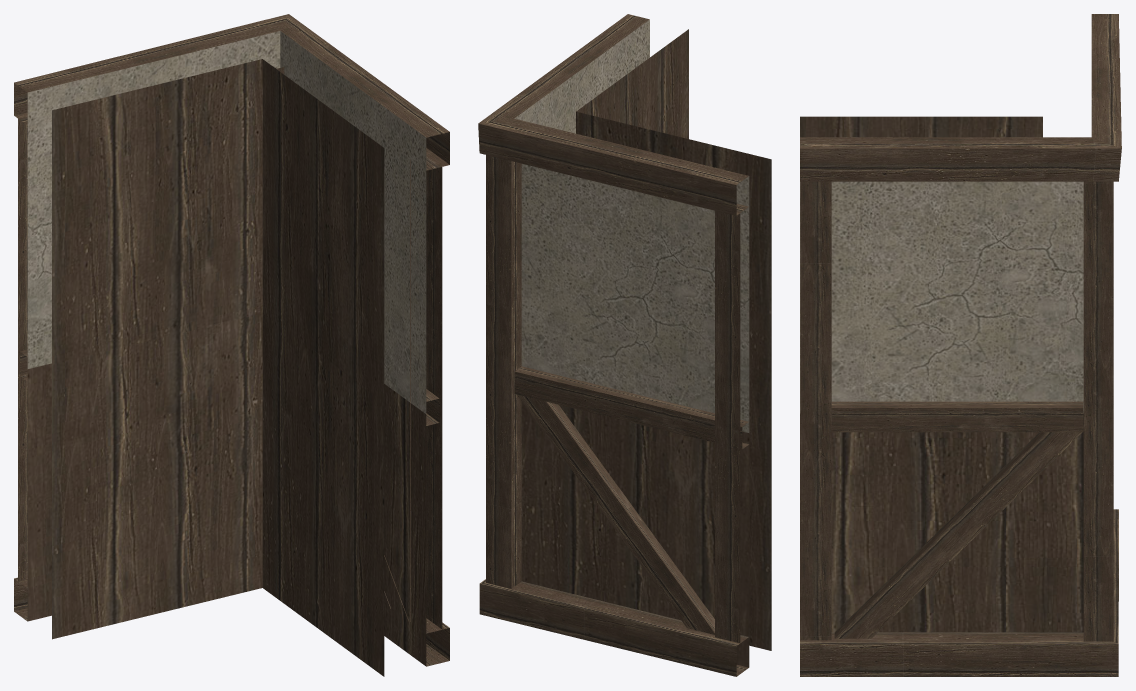
The model's file is ARC1010287.fbx.
The picture shows the model from 3 angles, left to right: view 1: azimuth 30°, elevation 25°; view 2: azimuth 150°, elevation 25°; view 3: azimuth 270°, elevation 25°; orthographic projection. The views are drawn at different scales.
Visible parts, largest first — view 1: smARC1010287; view 2: smARC1010287; view 3: smARC1010287.
Boxes of the visible parts, bbox=[...] form: smARC1010287: bbox=[14, 14, 449, 676]; smARC1010287: bbox=[478, 14, 771, 676]; smARC1010287: bbox=[800, 14, 1121, 676].
Bounding box in the file's own units: 147 × 268 × 148.
Materials: 1 (1 with a texture image).
